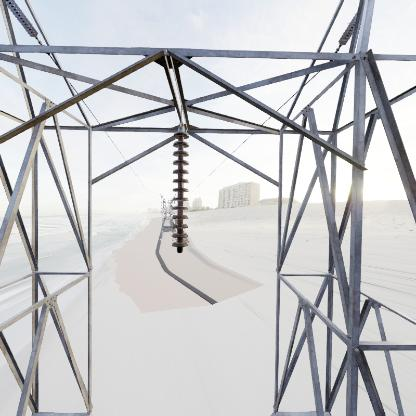insulator: (169, 130, 193, 255)
